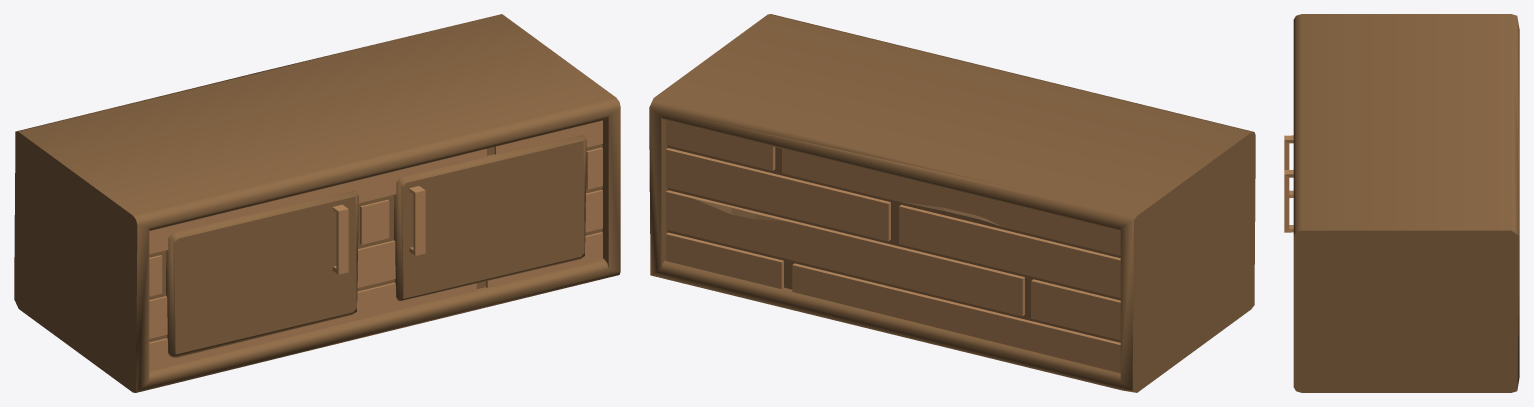
Rendered from cabinet-doors.glb.
The picture shows the model from 3 angles, left to right: view 1: azimuth 30°, elevation 25°; view 2: azimuth 150°, elevation 25°; view 3: azimuth 270°, elevation 25°; orthographic projection. The views are drawn at different scales.
Parts seen in each view (by area): view 1: Environment_Cabinet_Doors; view 2: Environment_Cabinet_Doors; view 3: Environment_Cabinet_Doors.
Part boxes in pixels (left/top/right/bottom): Environment_Cabinet_Doors: left=14, top=14, right=620, bottom=392; Environment_Cabinet_Doors: left=649, top=14, right=1255, bottom=392; Environment_Cabinet_Doors: left=1284, top=14, right=1519, bottom=392.
Size of the model in its own units: 4 by 1.4 by 1.84.
